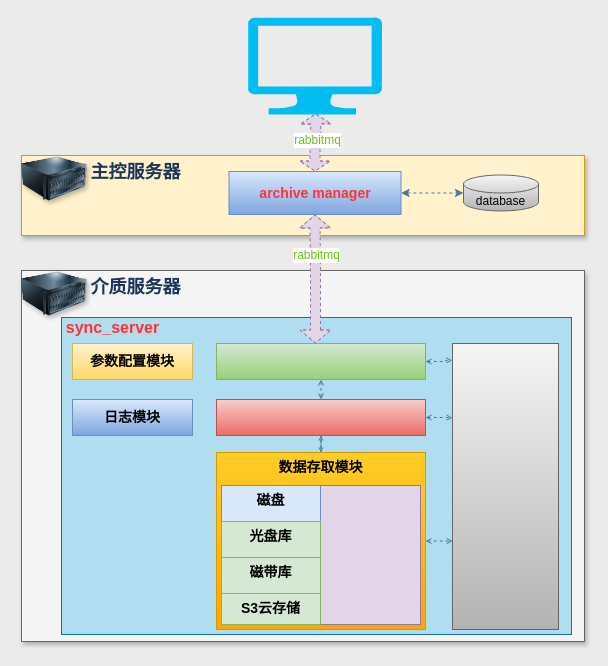
This 608x666 diagram has some shape labels left out. The shapes that lost their labels are listed below. From the top down, each one's centre as x and y in pixels, then its label:
At point 315,65: "管理控制台".
At point 321,361: "消息处理模块".
At point 321,417: "任务管理模块".
At point 505,486: "数据持久化模块（mysql）".
At point 370,554: "加解密模块".
